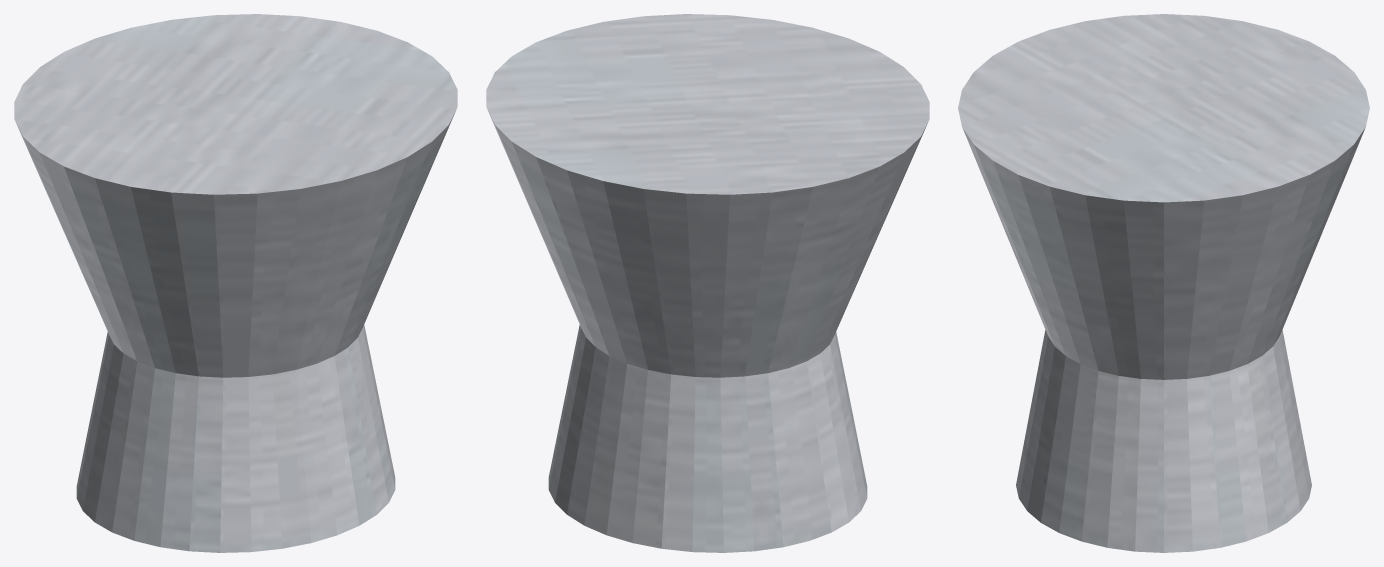
Rendered from torso2.obj.
3 views of the same model, side by side, from view 1: azimuth 30°, elevation 25°; view 2: azimuth 150°, elevation 25°; view 3: azimuth 270°, elevation 25° (orthographic).
Parts seen in each view (by area): view 1: Cylinder_Cylinder.006; view 2: Cylinder_Cylinder.006; view 3: Cylinder_Cylinder.006.
Part boxes in pixels (bbox=[...]): Cylinder_Cylinder.006: bbox=[14, 14, 457, 552]; Cylinder_Cylinder.006: bbox=[486, 14, 929, 552]; Cylinder_Cylinder.006: bbox=[958, 14, 1369, 552].
Bounding box in the file's own units: 1.17 × 1.09 × 1.08.
Materials: 1 (1 with a texture image).
